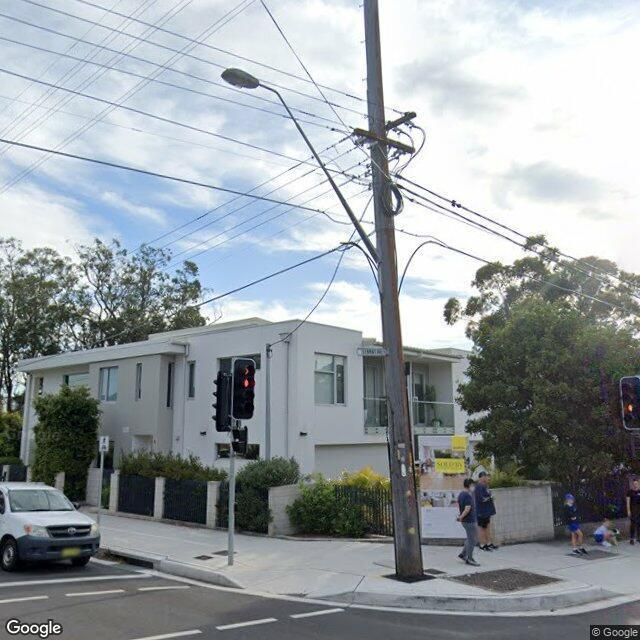crossarm: (355, 112, 417, 144), (353, 127, 416, 157)
steel-pole: (228, 357, 235, 567)
streetlight: (222, 66, 382, 266)
timber-pole: (362, 0, 425, 577)
traffic-light: (230, 358, 257, 418), (212, 371, 232, 432), (619, 374, 640, 430), (231, 425, 249, 454)
